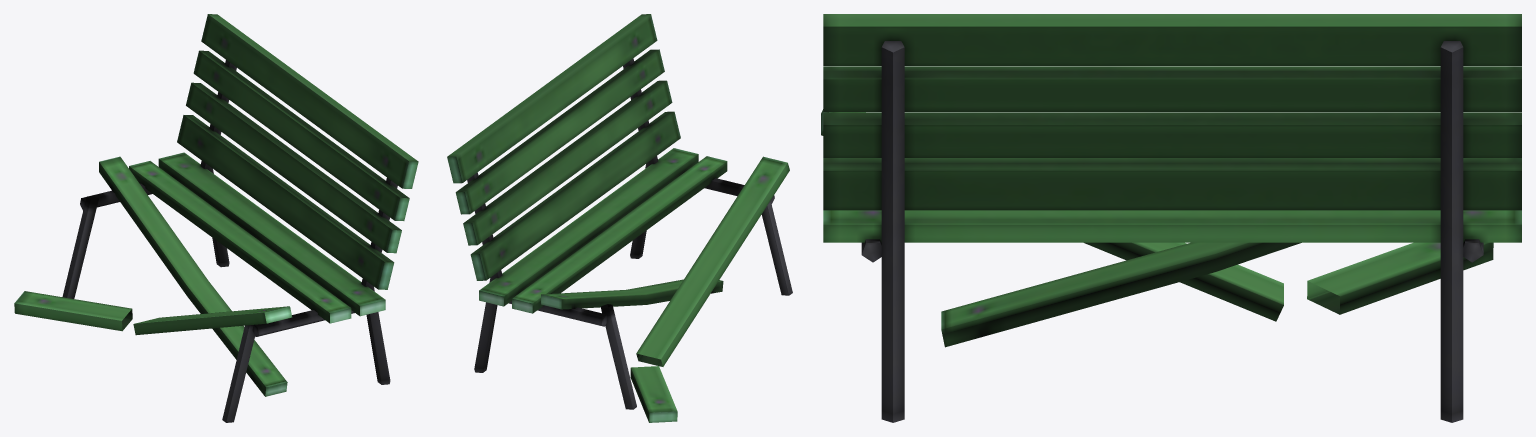
Rendered from WachtBankje_Step1.FBX.
The picture shows the model from 3 angles, left to right: view 1: azimuth 30°, elevation 25°; view 2: azimuth 150°, elevation 25°; view 3: azimuth 270°, elevation 25°; orthographic projection. The views are drawn at different scales.
Parts seen in each view (by area): view 1: Bankje; view 2: Bankje; view 3: Bankje.
Boxes of the visible parts, left/top/right/bottom form: Bankje: left=14, top=14, right=418, bottom=422; Bankje: left=447, top=14, right=792, bottom=422; Bankje: left=821, top=14, right=1521, bottom=422.
Size of the model in its own units: 114 by 113 by 176.
1 material, 1 textured.
